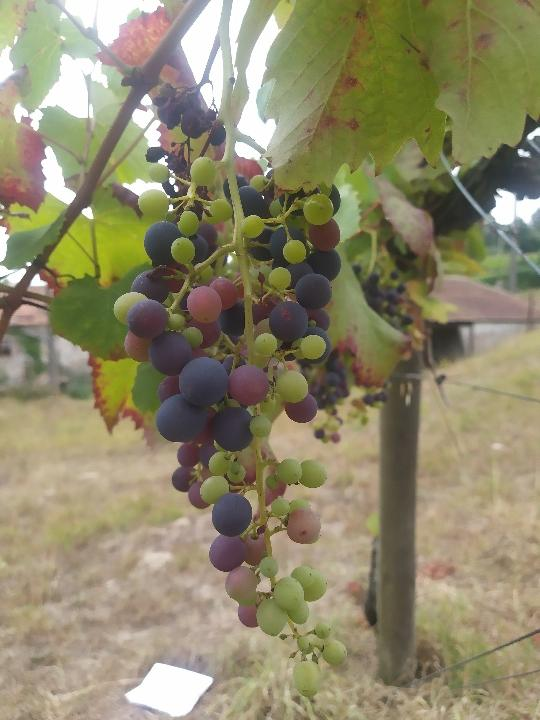grape: (110, 81, 350, 699)
